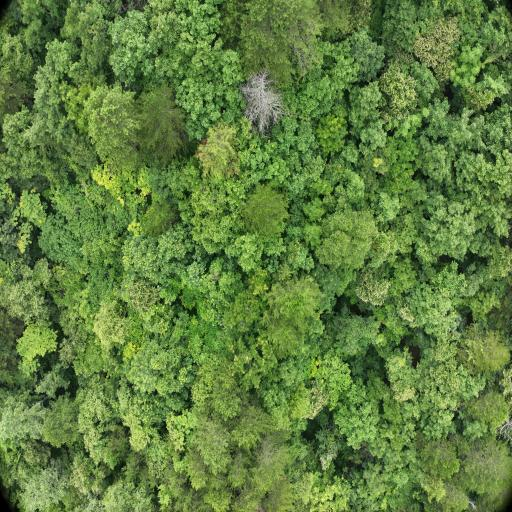dead-tree: (244, 84, 277, 117)
